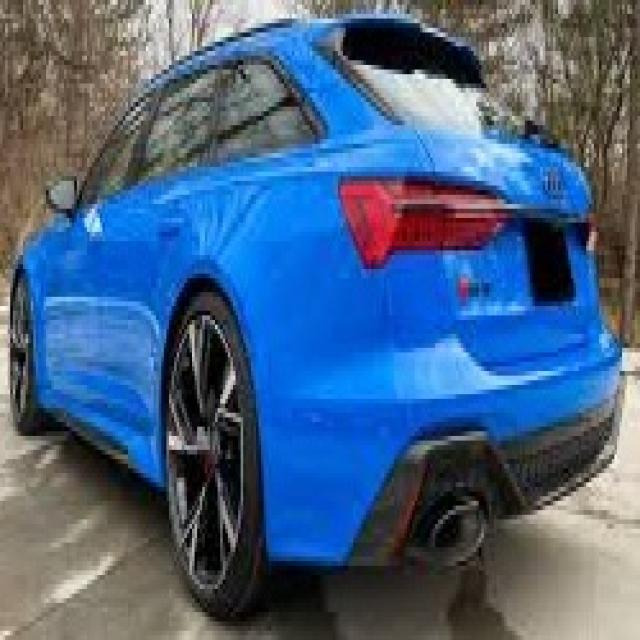blue: (11, 14, 630, 594)
